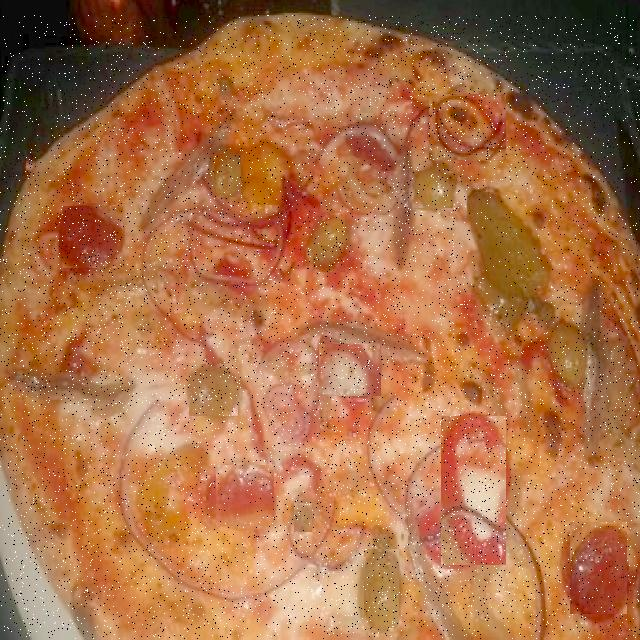Basil: (468, 188, 551, 306)
Olives: (328, 129, 402, 220), (430, 96, 508, 162), (264, 382, 312, 451), (364, 550, 399, 628), (189, 365, 238, 416), (313, 214, 345, 274), (556, 328, 588, 386), (415, 172, 453, 208), (214, 155, 241, 197), (294, 504, 312, 532)
Onions: (191, 213, 283, 286)
Pepperoni: (570, 523, 627, 614), (62, 208, 123, 270), (216, 466, 274, 526)
Pizza: (0, 15, 640, 639)
Red Pepper: (441, 417, 506, 565), (319, 346, 381, 398)
